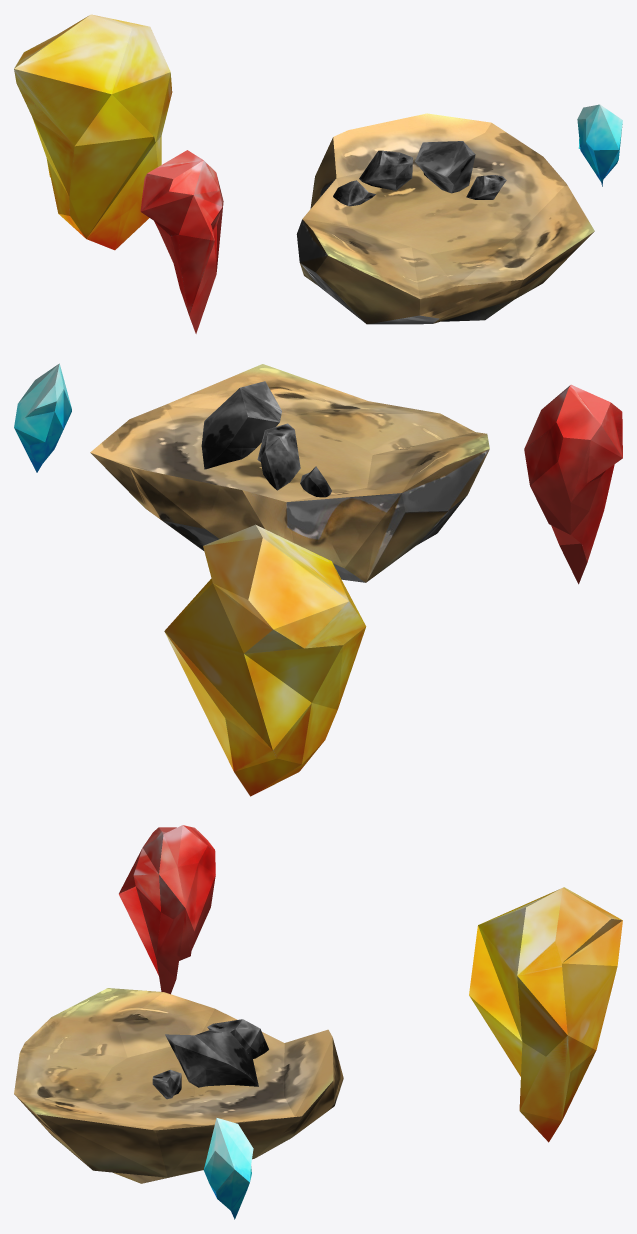
File: animated_island-optimised.glb
3 views of the same model, one above another, from view 1: azimuth 30°, elevation 25°; view 2: azimuth 150°, elevation 25°; view 3: azimuth 270°, elevation 25° (orthographic). The views are drawn at different scales.
Visible parts, largest first — view 1: Platform, rock_2, rock 1, rock_3, stone_2, stone_3, stone_1, stone_4; view 2: Platform, rock_2, rock 1, stone_2, rock_3, stone_3, stone_4; view 3: Platform, rock_2, rock 1, stone_2, rock_3, stone_3, stone_1.
Part boxes in pixels (box(x1,y1,x2,y2)): Platform: box(296, 113, 594, 324); rock_2: box(14, 14, 172, 250); rock 1: box(140, 150, 223, 333); rock_3: box(577, 104, 622, 186); stone_2: box(415, 141, 475, 193); stone_3: box(359, 150, 412, 190); stone_1: box(466, 175, 506, 199); stone_4: box(333, 180, 375, 206); Platform: box(90, 364, 489, 582); rock_2: box(164, 524, 366, 796); rock 1: box(524, 384, 622, 584); stone_2: box(201, 381, 281, 469); rock_3: box(14, 363, 71, 472); stone_3: box(257, 423, 300, 490); stone_4: box(300, 466, 331, 497); Platform: box(14, 988, 343, 1183); rock_2: box(469, 887, 622, 1142); rock 1: box(119, 825, 215, 994); stone_2: box(165, 1030, 258, 1087); rock_3: box(203, 1118, 253, 1219); stone_3: box(207, 1019, 268, 1058); stone_1: box(152, 1069, 181, 1099).
Bounding box in the file's own units: 10.75 × 5.17 × 10.77.
5 materials, 5 textured.
